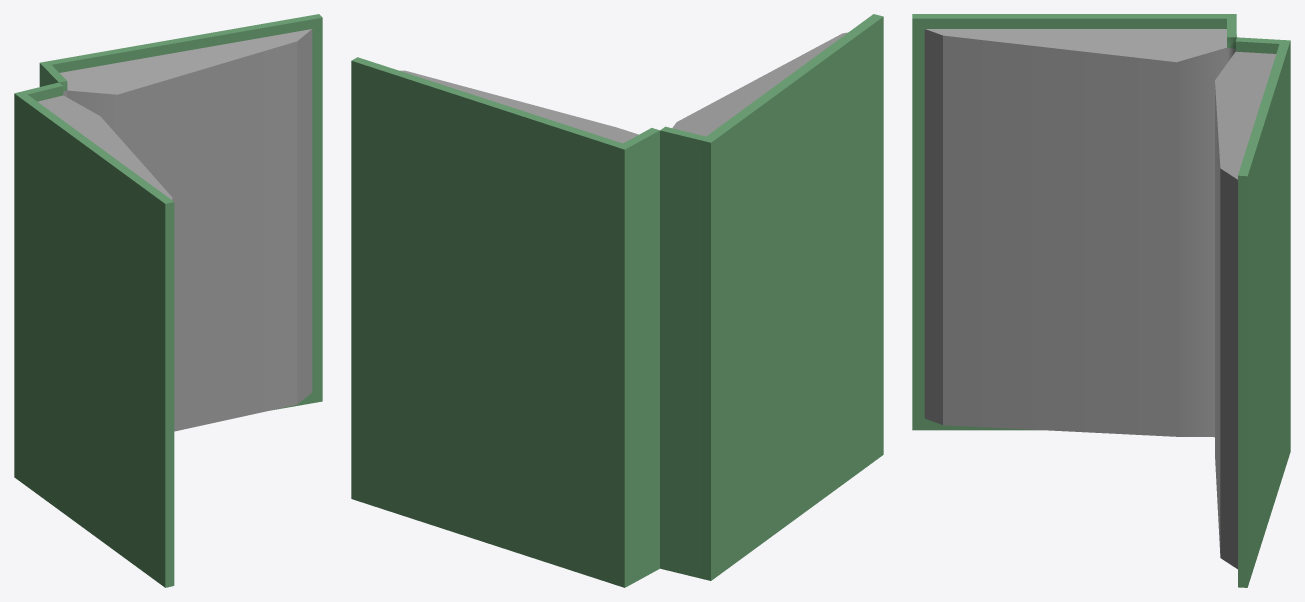
The model's file is bookshattered.fbx.
3 views of the same model, side by side, from view 1: azimuth 30°, elevation 25°; view 2: azimuth 150°, elevation 25°; view 3: azimuth 270°, elevation 25° (orthographic). The views are drawn at different scales.
Parts seen in each view (by area): view 1: pasted__pCube1; view 2: pasted__pCube1; view 3: pasted__pCube1.
Boxes of the visible parts, x1,y1,x2,y2 form: pasted__pCube1: (14,14,322,587); pasted__pCube1: (351,14,883,587); pasted__pCube1: (912,14,1290,587).
Size of the model in its own units: 3.51 by 4.16 by 3.46.
